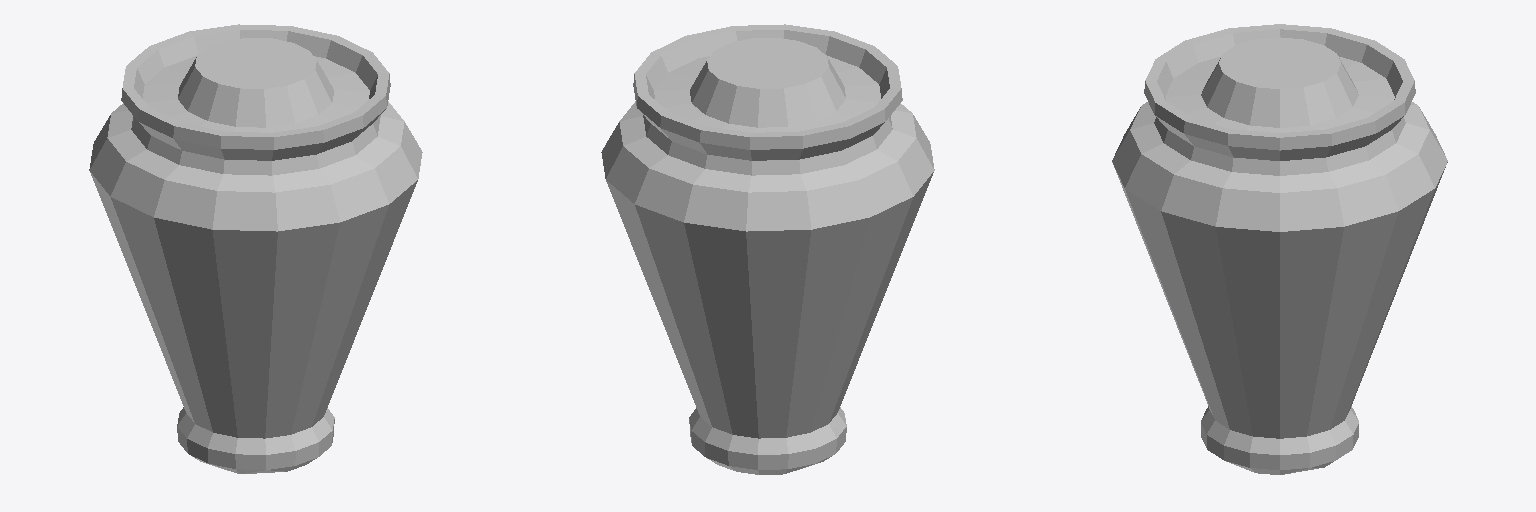
The model's file is waza_2.2.obj.
3 views of the same model, side by side, from view 1: azimuth 30°, elevation 25°; view 2: azimuth 150°, elevation 25°; view 3: azimuth 270°, elevation 25° (orthographic).
Visible parts, largest first — view 1: Vert.001; view 2: Vert.001; view 3: Vert.001.
Boxes of the visible parts, x1,y1,x2,y2 form: Vert.001: [89, 24, 422, 473]; Vert.001: [601, 24, 934, 474]; Vert.001: [1112, 24, 1447, 474].
Bounding box in the file's own units: 1.34 × 1.7 × 1.34.